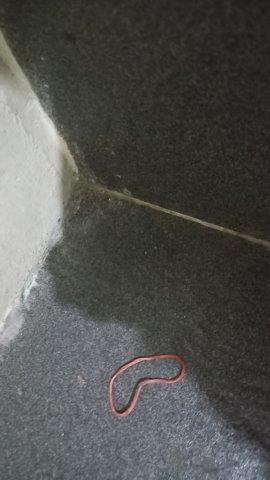karet: (109, 353, 187, 417)
